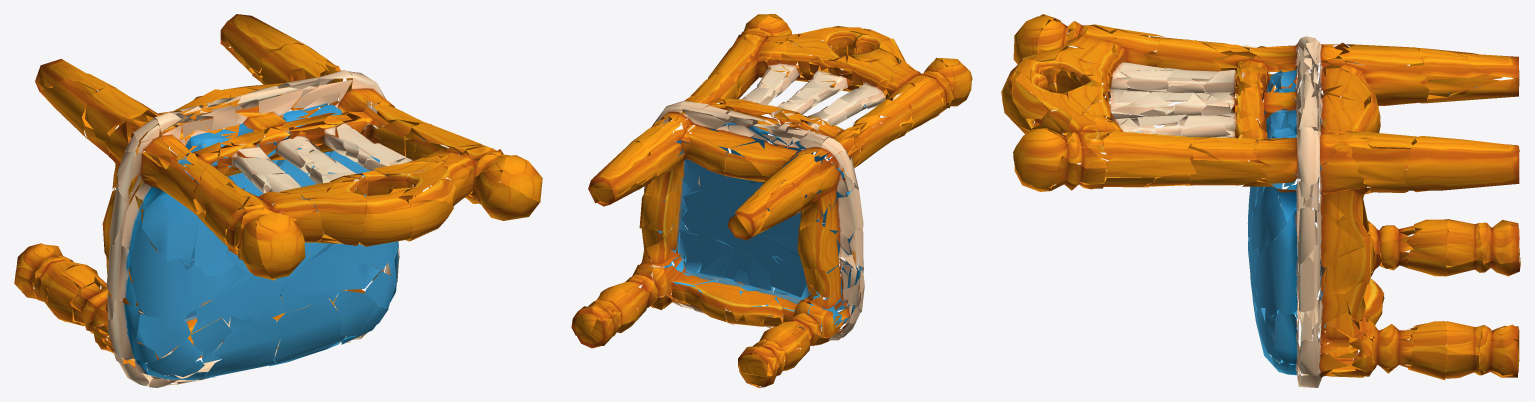
File: wooden_chair_v1.glb
The picture shows the model from 3 angles, left to right: view 1: azimuth 30°, elevation 25°; view 2: azimuth 150°, elevation 25°; view 3: azimuth 270°, elevation 25°; orthographic projection. The views are drawn at different scales.
Visible parts, largest first — view 1: Mesh_0; view 2: Mesh_0; view 3: Mesh_0.
Boxes of the visible parts, box(x1,y1,x2,y2) form: Mesh_0: box(14, 14, 542, 387); Mesh_0: box(571, 14, 972, 387); Mesh_0: box(1001, 14, 1520, 387).
Size of the model in its own units: 1.21 by 1.1 by 1.91.
1 material, 1 textured.
